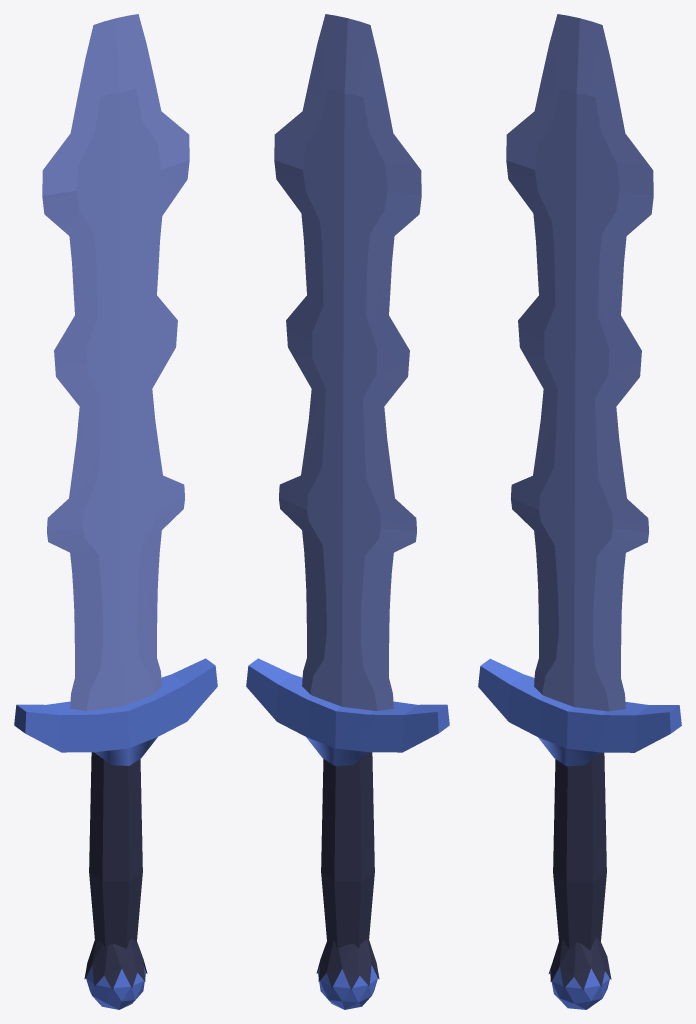
The model's file is FBX_ShortSword_mana_steal.fbx.
3 views of the same model, side by side, from view 1: azimuth 30°, elevation 25°; view 2: azimuth 150°, elevation 25°; view 3: azimuth 330°, elevation 25° (orthographic).
Parts seen in each view (by area): view 1: edge.006, middle.006, handle.006, crystal_wrap.006, crystal.006; view 2: edge.006, middle.006, handle.006, crystal_wrap.006, crystal.006; view 3: edge.006, middle.006, handle.006, crystal_wrap.006, crystal.006.
Part boxes in pixels (left/top/right/bottom): edge.006: left=42, top=14, right=189, bottom=710; middle.006: left=14, top=658, right=217, bottom=765; handle.006: left=89, top=752, right=142, bottom=949; crystal_wrap.006: left=84, top=939, right=147, bottom=989; crystal.006: left=86, top=965, right=145, bottom=1009; edge.006: left=274, top=14, right=421, bottom=710; middle.006: left=246, top=658, right=449, bottom=765; handle.006: left=321, top=752, right=374, bottom=949; crystal_wrap.006: left=316, top=939, right=379, bottom=989; crystal.006: left=318, top=965, right=377, bottom=1009; edge.006: left=506, top=14, right=653, bottom=711; middle.006: left=478, top=658, right=681, bottom=766; handle.006: left=553, top=752, right=606, bottom=950; crystal_wrap.006: left=548, top=937, right=611, bottom=990; crystal.006: left=550, top=967, right=609, bottom=1009.
Size of the model in its own units: 0.0563 by 0.9532 by 0.1941.
